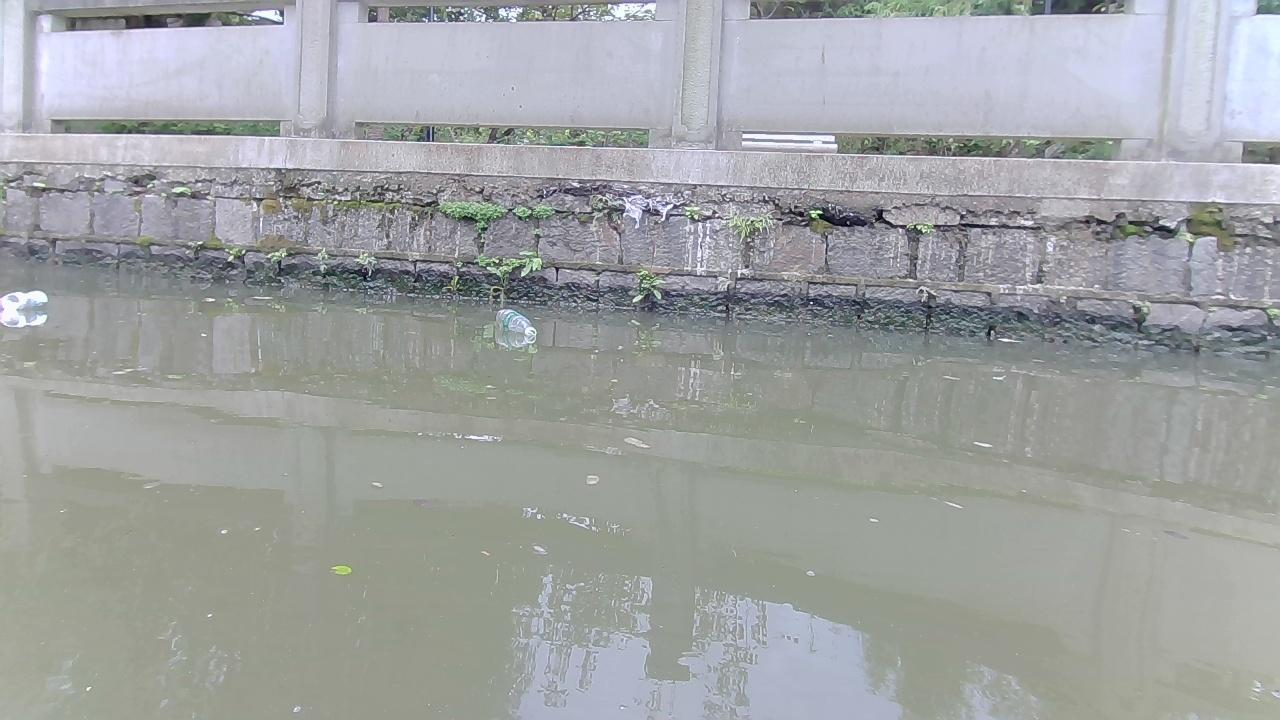bottle: (494, 308, 535, 336), (0, 289, 47, 309)
